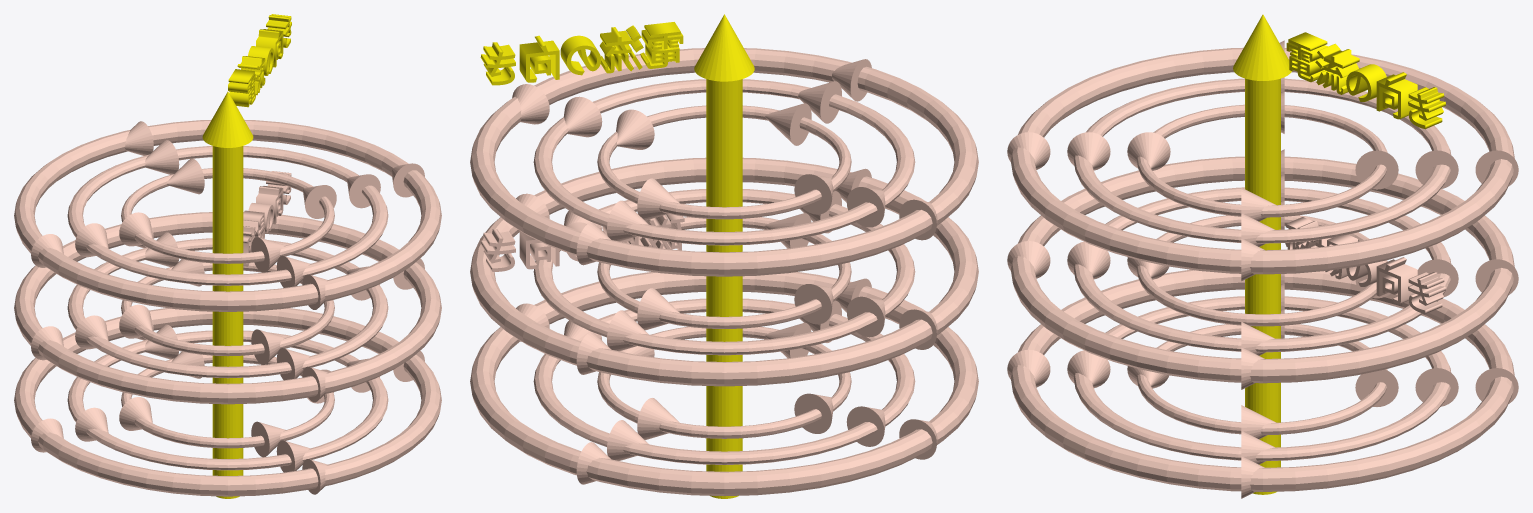
Rendered from Corkscrew_rule.glb.
3 views of the same model, side by side, from view 1: azimuth 30°, elevation 25°; view 2: azimuth 150°, elevation 25°; view 3: azimuth 270°, elevation 25° (orthographic). The views are drawn at different scales.
Parts seen in each view (by area): view 1: 磁力線.002, 磁力線.008, 磁力線.003, 磁力線.001, 電流, 磁力線.007, 磁力線.004, 磁力線, 電流向き, 磁力線.006, 磁力線.005, 磁場の向き (+24 smaller); view 2: 磁力線.002, 磁力線.008, 磁力線.003, 磁力線.001, 電流, 磁力線.007, 磁力線.004, 電流向き, 磁力線, 磁力線.006, 磁力線.005, 磁場の向き (+27 smaller); view 3: 磁力線.002, 磁力線.003, 磁力線.008, 磁力線.001, 磁力線.007, 磁力線.004, 電流, 電流向き, 磁力線, 磁力線.006, 磁力線.005, 磁場の向き (+21 smaller).
Boxes of the visible parts, box(x1,y1,x2,y2) form: 磁力線.002: box(14, 119, 441, 311); 磁力線.008: box(14, 308, 441, 496); 磁力線.003: box(14, 212, 441, 404); 磁力線.001: box(67, 146, 388, 285); 電流: box(212, 146, 243, 498); 磁力線.007: box(67, 330, 388, 470); 磁力線.004: box(67, 238, 388, 378); 磁力線: box(121, 168, 334, 263); 電流向き: box(228, 14, 291, 107); 磁力線.006: box(121, 354, 334, 448); 磁力線.005: box(121, 262, 334, 356); 磁場の向き: box(243, 171, 291, 266); 磁力線.002: box(470, 48, 978, 276); 磁力線.008: box(470, 272, 978, 496); 磁力線.003: box(470, 157, 978, 386); 磁力線.001: box(533, 79, 915, 245); 電流: box(706, 79, 742, 498); 磁力線.007: box(533, 298, 915, 464); 磁力線.004: box(533, 189, 915, 355); 電流向き: box(480, 22, 683, 85); 磁力線: box(597, 105, 851, 219); 磁力線.006: box(597, 326, 851, 438); 磁力線.005: box(597, 217, 851, 328); 磁場の向き: box(480, 214, 684, 271); 磁力線.002: box(1010, 47, 1514, 274); 磁力線.003: box(1010, 156, 1514, 383); 磁力線.008: box(1010, 269, 1514, 491); 磁力線.001: box(1074, 78, 1451, 243); 磁力線.007: box(1074, 296, 1451, 461); 磁力線.004: box(1074, 187, 1451, 352); 電流: box(1245, 78, 1280, 494); 電流向き: box(1286, 32, 1445, 129); 磁力線: box(1137, 104, 1387, 217); 磁力線.006: box(1137, 324, 1387, 435); 磁力線.005: box(1137, 215, 1387, 326); 磁場の向き: box(1285, 217, 1445, 313).
Size of the model in its own units: 4.26 by 4.35 by 4.26.
